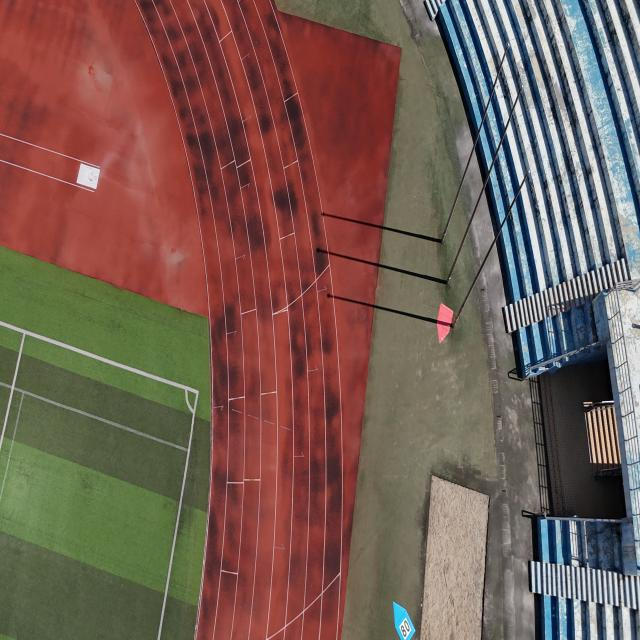board: (393, 602, 416, 640), (436, 303, 454, 344)
